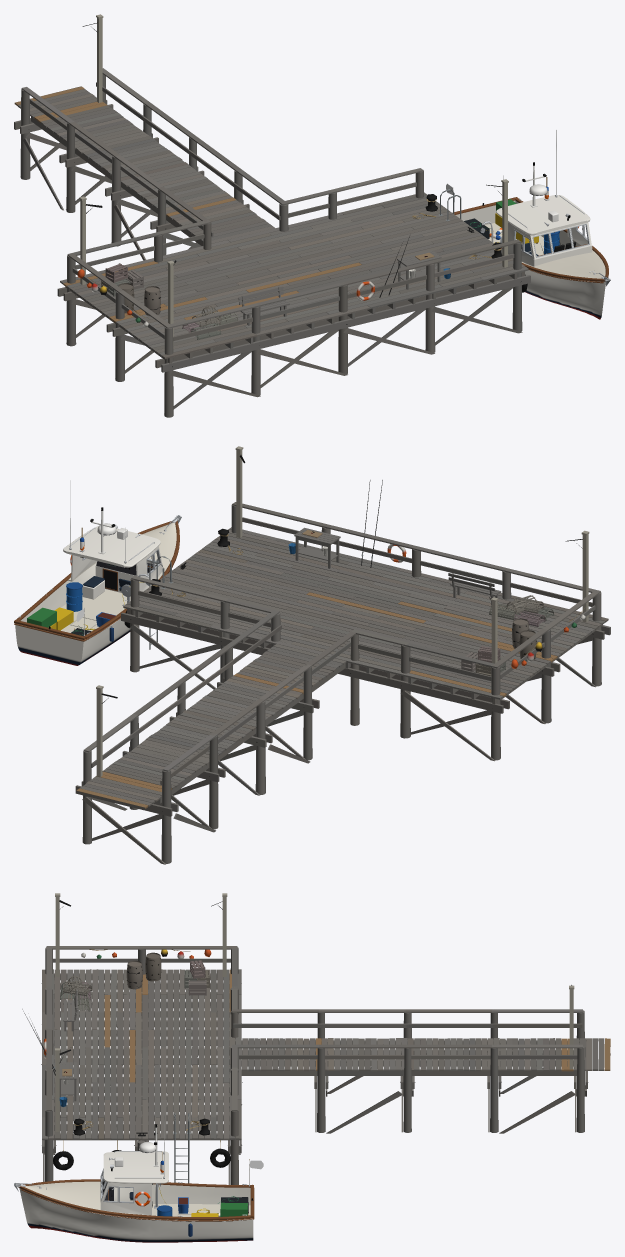
Rendered from landmark.glb.
3 views of the same model, one above another, from view 1: azimuth 30°, elevation 25°; view 2: azimuth 150°, elevation 25°; view 3: azimuth 270°, elevation 25° (orthographic). The views are drawn at different scales.
Parts seen in each view (by area): view 1: Native tidewater structure, Native tidewater boat; view 2: Native tidewater structure, Native tidewater boat; view 3: Native tidewater structure, Native tidewater boat.
Part boxes in pixels (x1,y1,x2,y2): Native tidewater structure: (14, 14, 530, 417); Native tidewater boat: (446, 130, 610, 319); Native tidewater structure: (75, 446, 610, 864); Native tidewater boat: (14, 480, 181, 665); Native tidewater structure: (22, 893, 610, 1184); Native tidewater boat: (14, 1115, 263, 1242).
Bounding box in the file's own units: 8.71 × 2.62 × 10.04.
